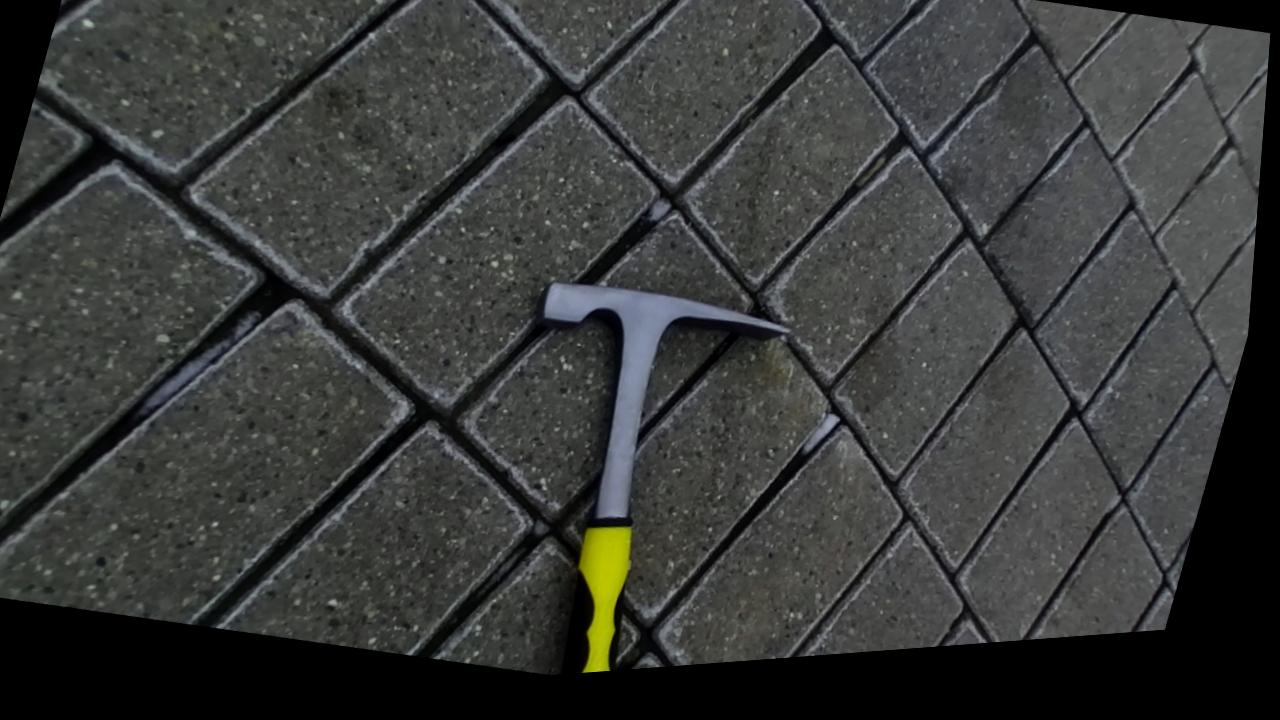pick: (537, 282, 789, 674)
